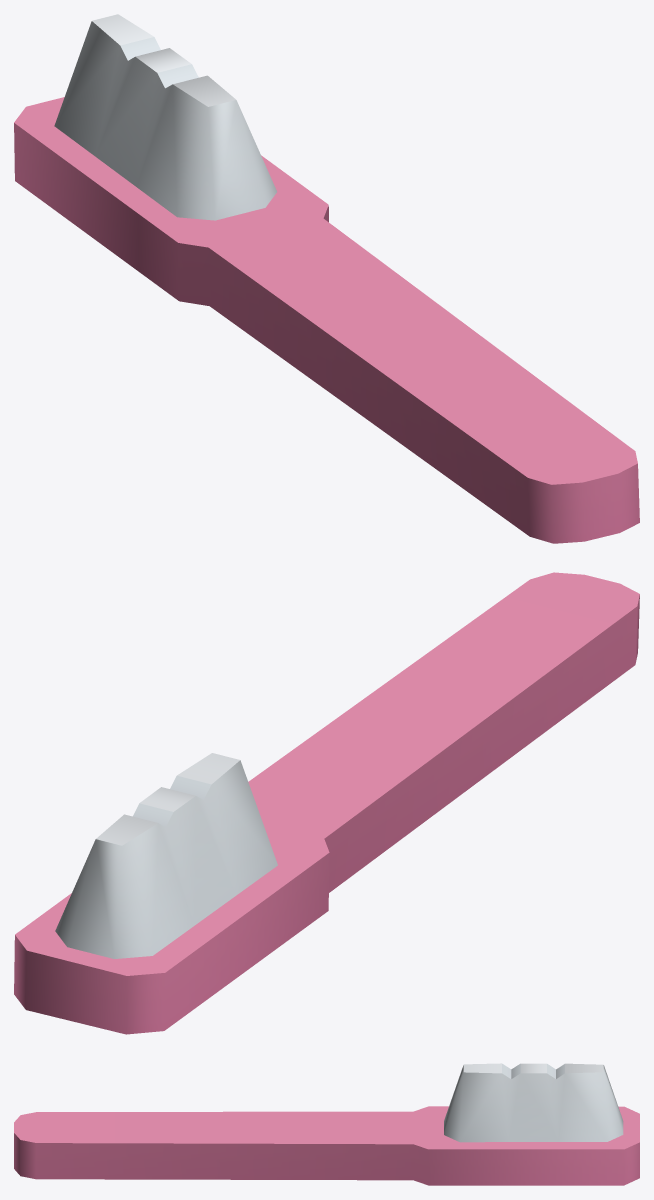
File: Toothbrush Pink.glb
3 views of the same model, one above another, from view 1: azimuth 30°, elevation 25°; view 2: azimuth 150°, elevation 25°; view 3: azimuth 270°, elevation 25° (orthographic). The views are drawn at different scales.
Parts seen in each view (by area): view 1: toothbrush_pink; view 2: toothbrush_pink; view 3: toothbrush_pink.
Part boxes in pixels (box(x1,y1,x2,y2)): toothbrush_pink: box(14, 14, 639, 543); toothbrush_pink: box(14, 572, 639, 1034); toothbrush_pink: box(14, 1063, 639, 1185).
Size of the model in its own units: 0.1 by 0.1 by 0.6.
Materials: 1 (1 with a texture image).
